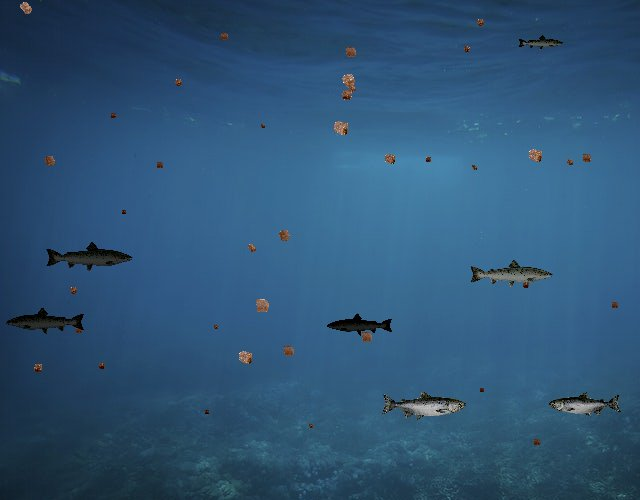Fish: (44, 241, 134, 273), (468, 258, 554, 289), (380, 390, 466, 421), (6, 306, 87, 335), (549, 392, 622, 418), (326, 312, 394, 337), (517, 34, 564, 51)
Pellet: (577, 149, 596, 168), (342, 79, 361, 98), (422, 153, 435, 166), (107, 110, 119, 122), (210, 322, 220, 332)
